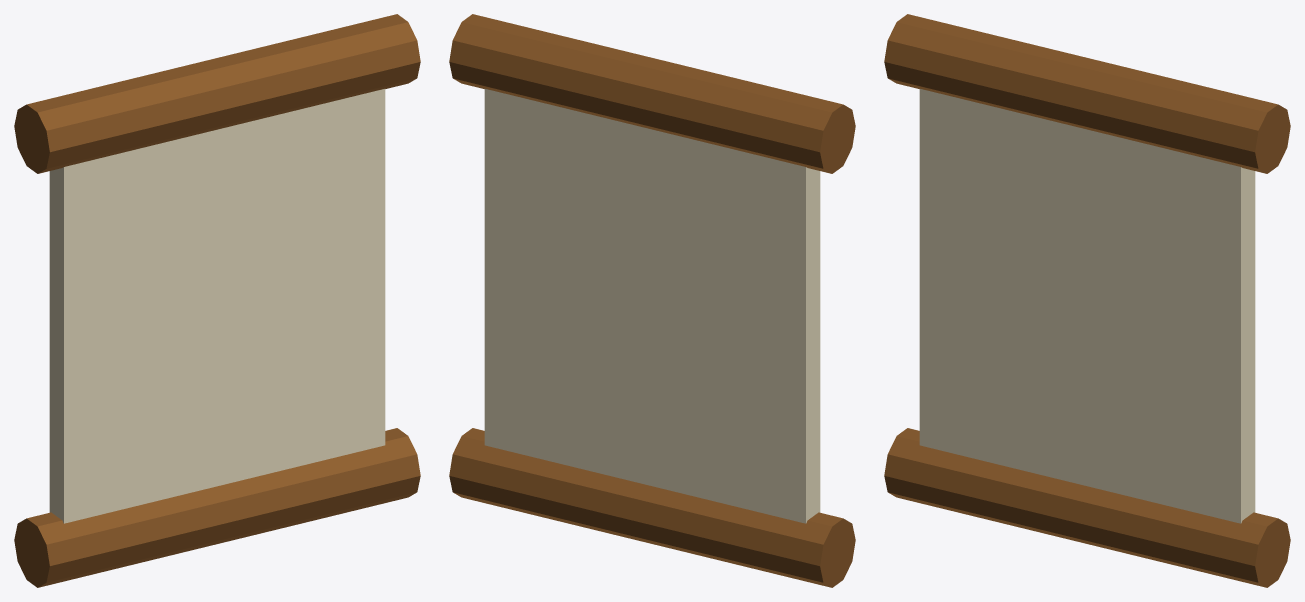
Rendered from icon_scroll.glb.
3 views of the same model, side by side, from view 1: azimuth 30°, elevation 25°; view 2: azimuth 150°, elevation 25°; view 3: azimuth 330°, elevation 25° (orthographic).
Parts seen in each view (by area): view 1: paper, roll1, roll2; view 2: paper, roll1, roll2; view 3: paper, roll1, roll2.
Part boxes in pixels (x1,y1,x2,y2): paper: [49, 89, 385, 523]; roll1: [14, 14, 420, 173]; roll2: [14, 428, 420, 587]; paper: [484, 89, 820, 523]; roll1: [449, 14, 855, 173]; roll2: [449, 428, 855, 587]; paper: [919, 89, 1255, 523]; roll1: [884, 14, 1290, 173]; roll2: [884, 428, 1290, 587].
Bounding box in the file's own units: 0.3 × 0.3676 × 0.05.
